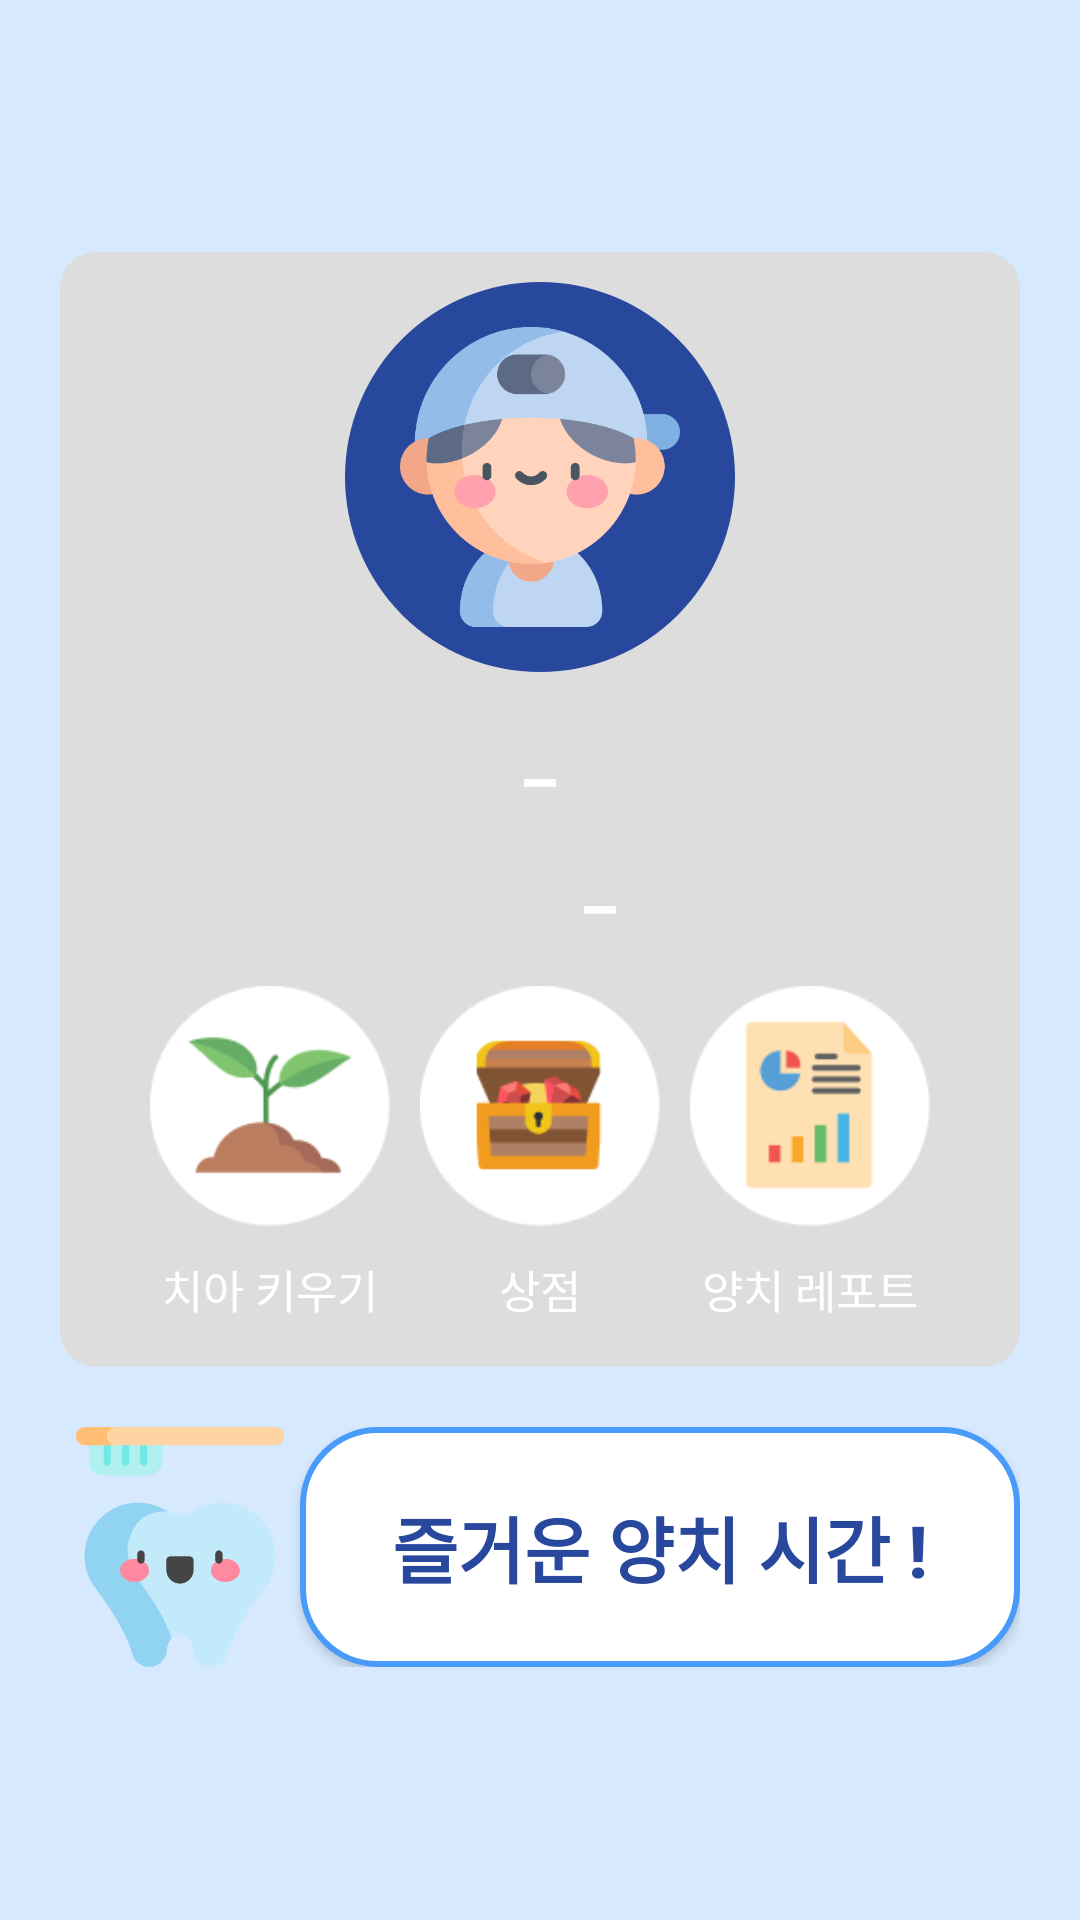

Icon bounding boxes for this 1080w x 1920h phone screenshot, format (x1, y1, x2, y2):
teeth: (76, 1427, 284, 1667)
